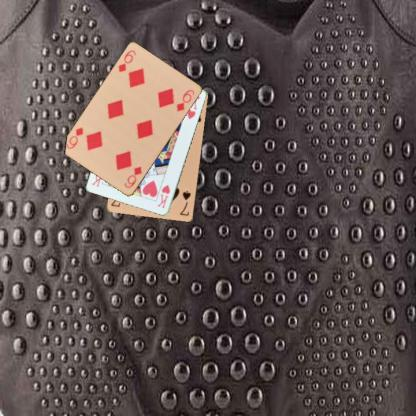6d: (115, 48, 137, 74), (122, 164, 143, 190)
7s: (177, 188, 192, 218)
Kh: (155, 182, 171, 210)
